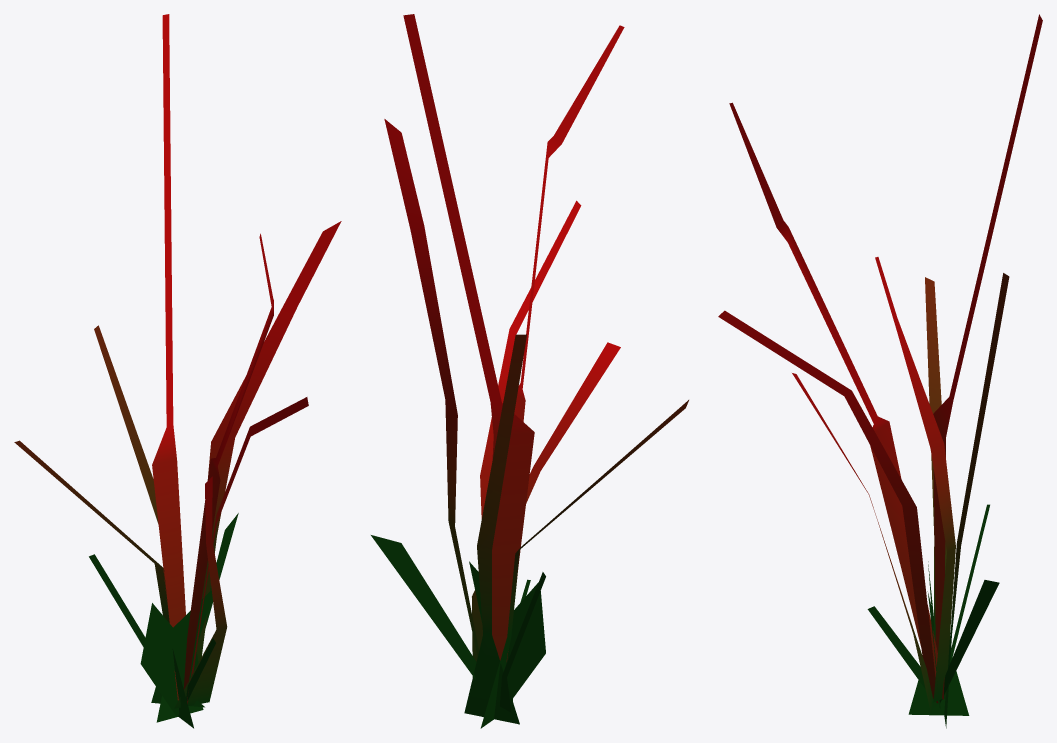
The model's file is scpho_Var1_LOD0.fbx.
3 renders of one model, left to right at view 1: azimuth 30°, elevation 25°; view 2: azimuth 150°, elevation 25°; view 3: azimuth 270°, elevation 25°, orthographic. The views are drawn at different scales.
Visible parts, largest first — view 1: _1c65_Var1_LOD0; view 2: _1c65_Var1_LOD0; view 3: _1c65_Var1_LOD0.
Part boxes in pixels (x1,y1,x2,y2): _1c65_Var1_LOD0: (14, 14, 341, 728); _1c65_Var1_LOD0: (371, 14, 688, 728); _1c65_Var1_LOD0: (718, 14, 1042, 728).
Size of the model in its own units: 13.32 by 28.12 by 11.55.
